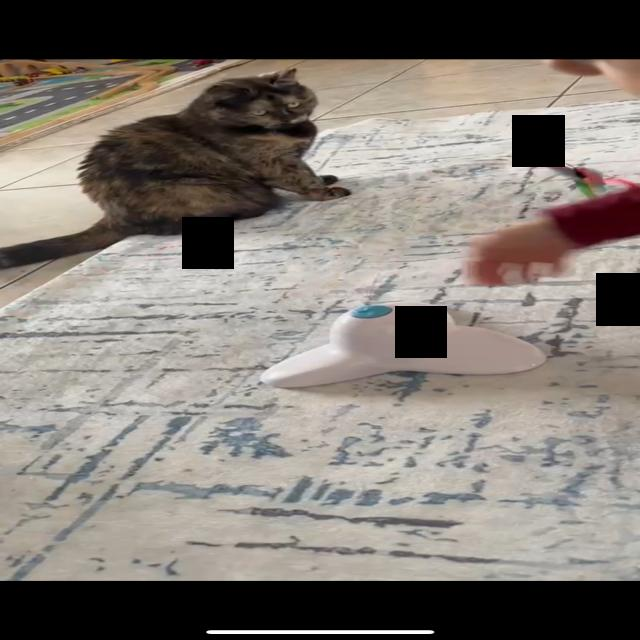authorized: (1, 67, 351, 270)
